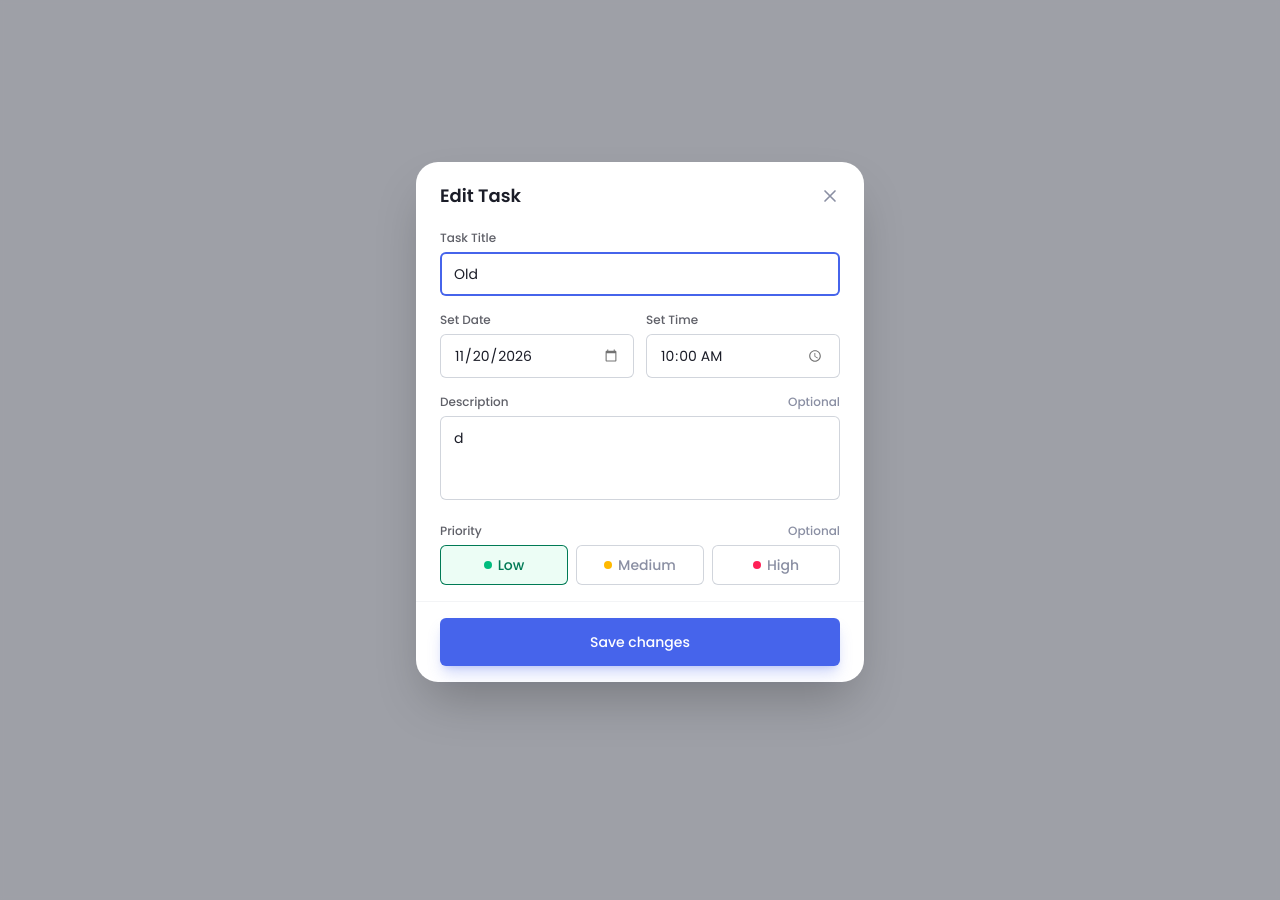
Test case: TaskForm › prefills when editing and shows server errors
Check: the field labelled "Task Title" holds "Old", box [440, 252, 840, 296]
Check: the radio button labelled "Low" is checked, box [440, 545, 568, 585]
Step 1. Click the button "Save changes" → [640, 642], box [440, 618, 840, 666]
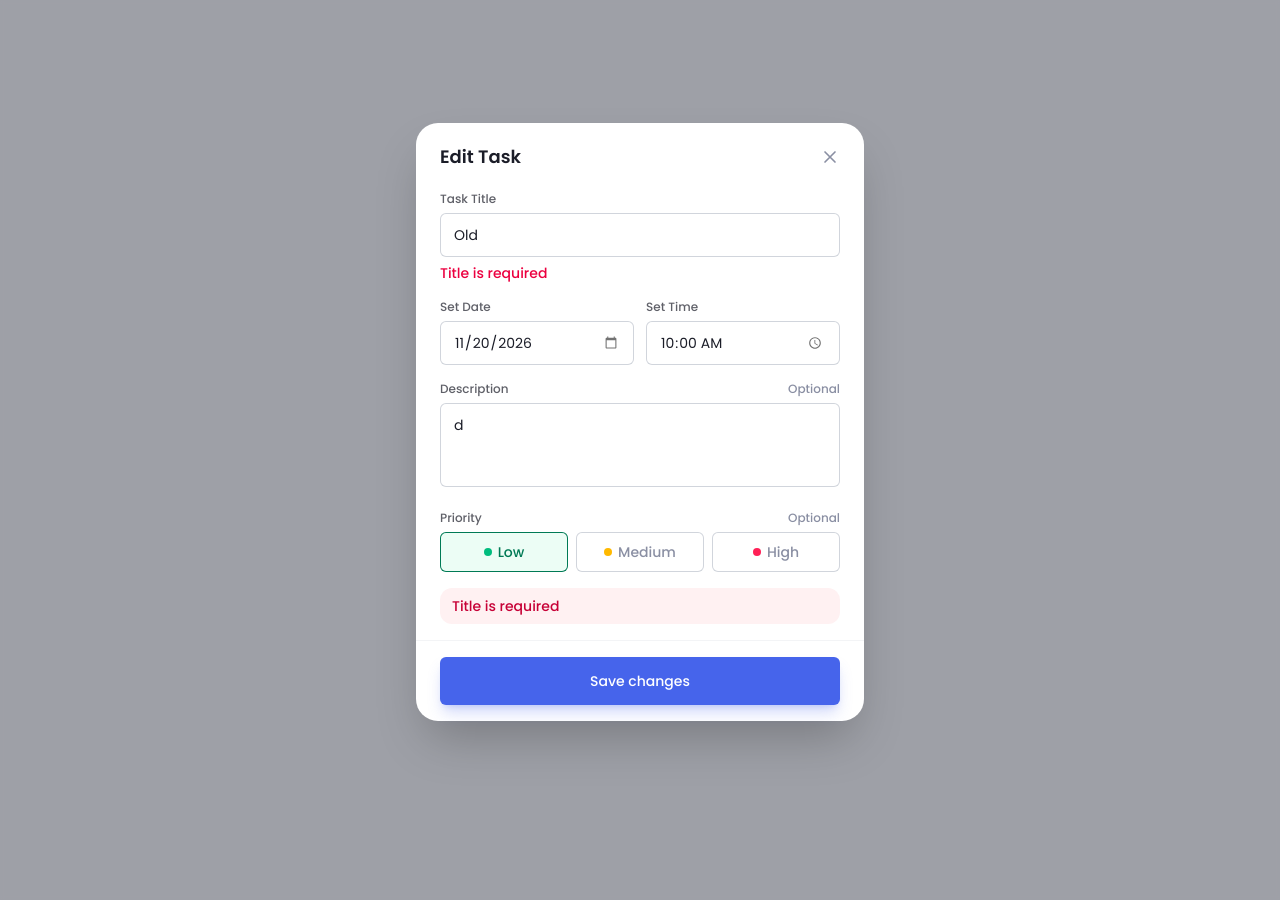
Check: the message reads "Title is required", box [452, 596, 559, 616]
